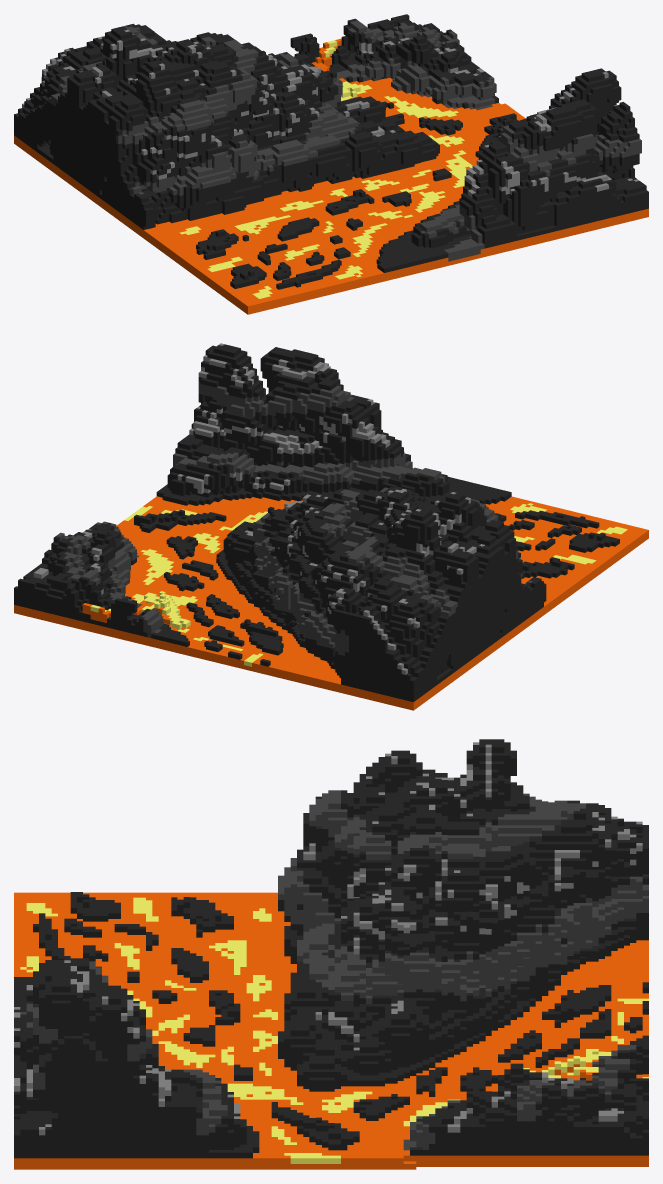
Rendered from Lava_stuff-28.obj.
3 views of the same model, one above another, from view 1: azimuth 30°, elevation 25°; view 2: azimuth 150°, elevation 25°; view 3: azimuth 270°, elevation 25° (orthographic). The views are drawn at different scales.
Bounding box in the file's own units: 20 × 6.8 × 20.2.
1 material, 1 textured.
